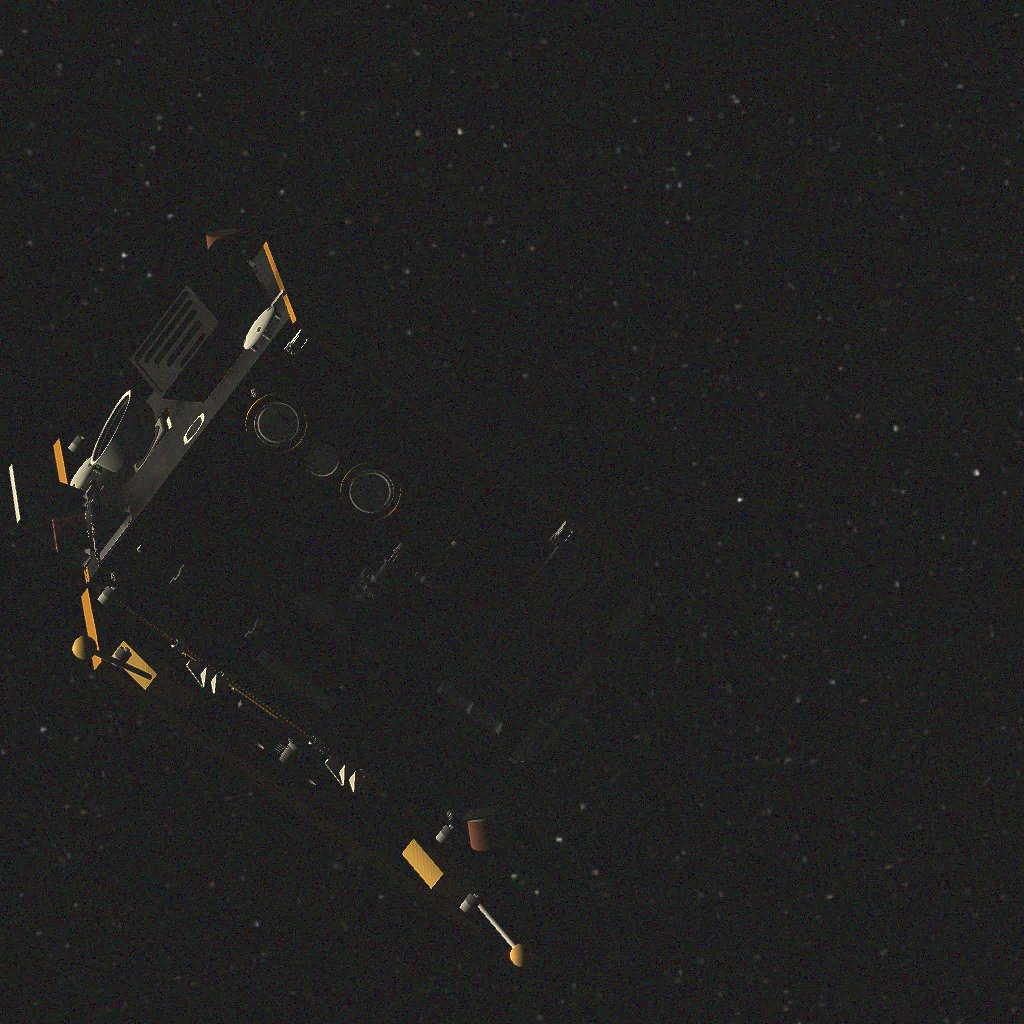proba_2: (9, 229, 666, 967)
